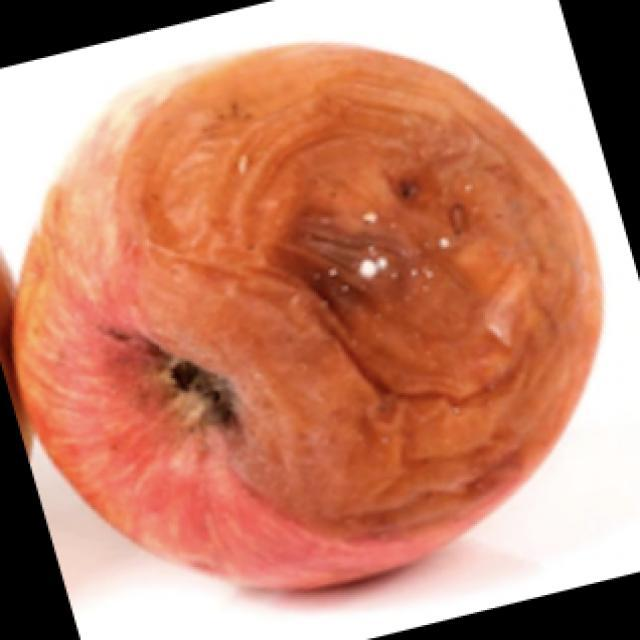Rotten: (35, 59, 605, 598)
